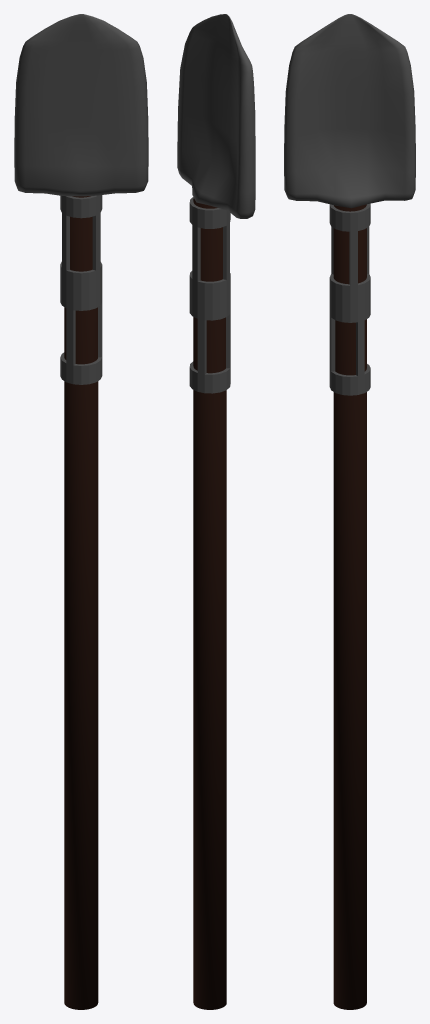
The model's file is Shovel.fbx.
3 views of the same model, side by side, from view 1: azimuth 90°, elevation 25°; view 2: azimuth 210°, elevation 25°; view 3: azimuth 270°, elevation 25° (orthographic).
Parts seen in each view (by area): view 1: Cube; view 2: Cube; view 3: Cube.
Part boxes in pixels (box(x1,y1,x2,y2)): Cube: box(14, 14, 148, 1009); Cube: box(177, 14, 255, 1009); Cube: box(284, 14, 415, 1009).
Bounding box in the file's own units: 9.57 × 212 × 25.66.
